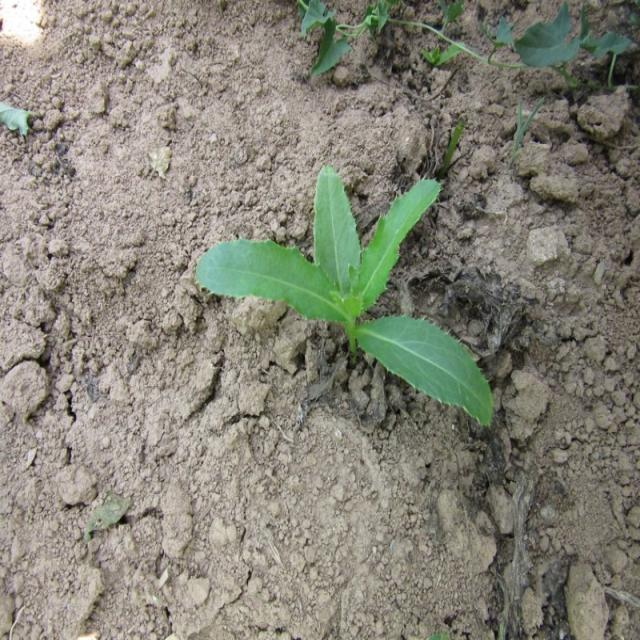field_thistle: (186, 171, 504, 406)
